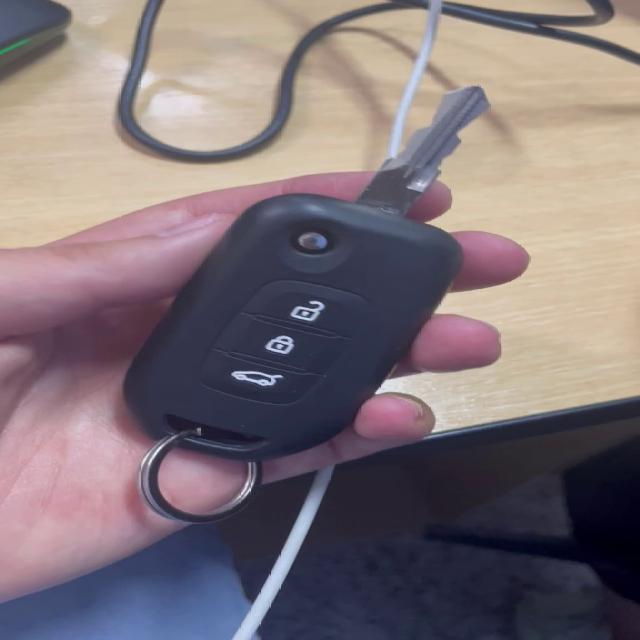llave-auto: (141, 91, 460, 520)
